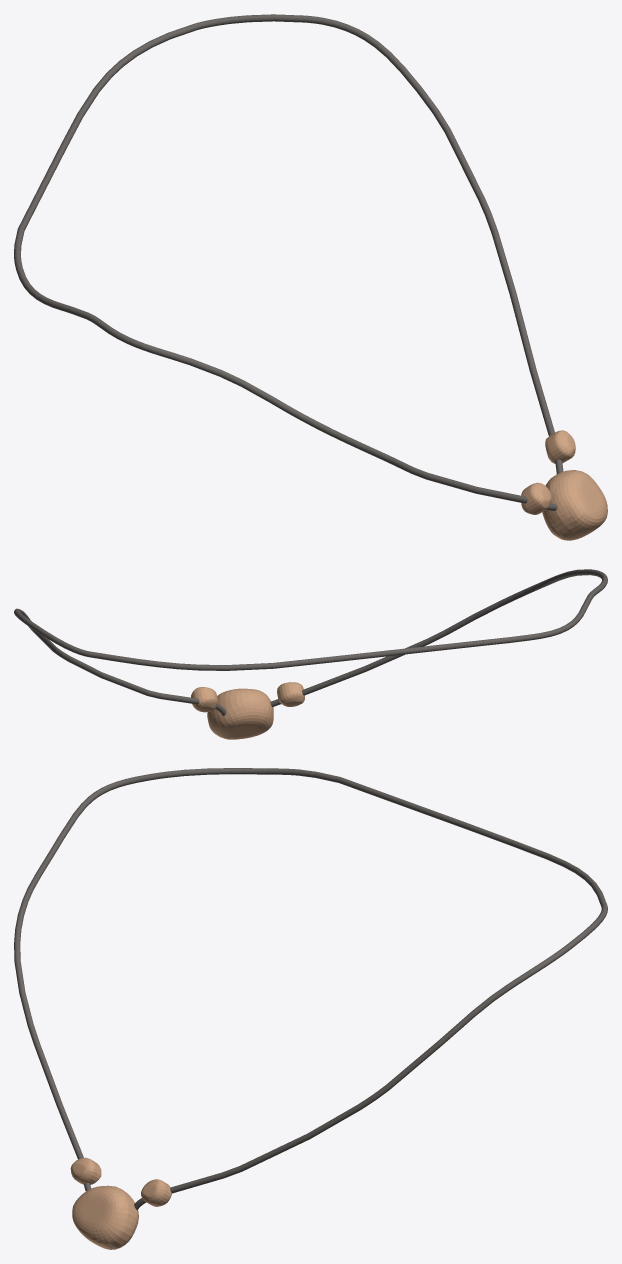
File: COSSACK_PENDANT_2#30.glb
The picture shows the model from 3 angles, top to bottom: view 1: azimuth 30°, elevation 25°; view 2: azimuth 150°, elevation 25°; view 3: azimuth 270°, elevation 25°; orthographic projection. The views are drawn at different scales.
Parts seen in each view (by area): view 1: ожерелье.1-RS Material.7, ожерелье.1-FABRIC 5_FRONT_1370352.1; view 2: ожерелье.1-RS Material.7, ожерелье.1-FABRIC 5_FRONT_1370352.1; view 3: ожерелье.1-RS Material.7, ожерелье.1-FABRIC 5_FRONT_1370352.1.
Boxes of the visible parts, x1,y1,x2,y2 form: ожерелье.1-RS Material.7: (14,14,563,510); ожерелье.1-FABRIC 5_FRONT_1370352.1: (521,430,607,540); ожерелье.1-RS Material.7: (14,569,607,715); ожерелье.1-FABRIC 5_FRONT_1370352.1: (191,682,304,739); ожерелье.1-RS Material.7: (14,768,607,1210); ожерелье.1-FABRIC 5_FRONT_1370352.1: (70,1157,172,1249).
Bounding box in the file's own units: 1.69 × 1.01 × 1.81.
